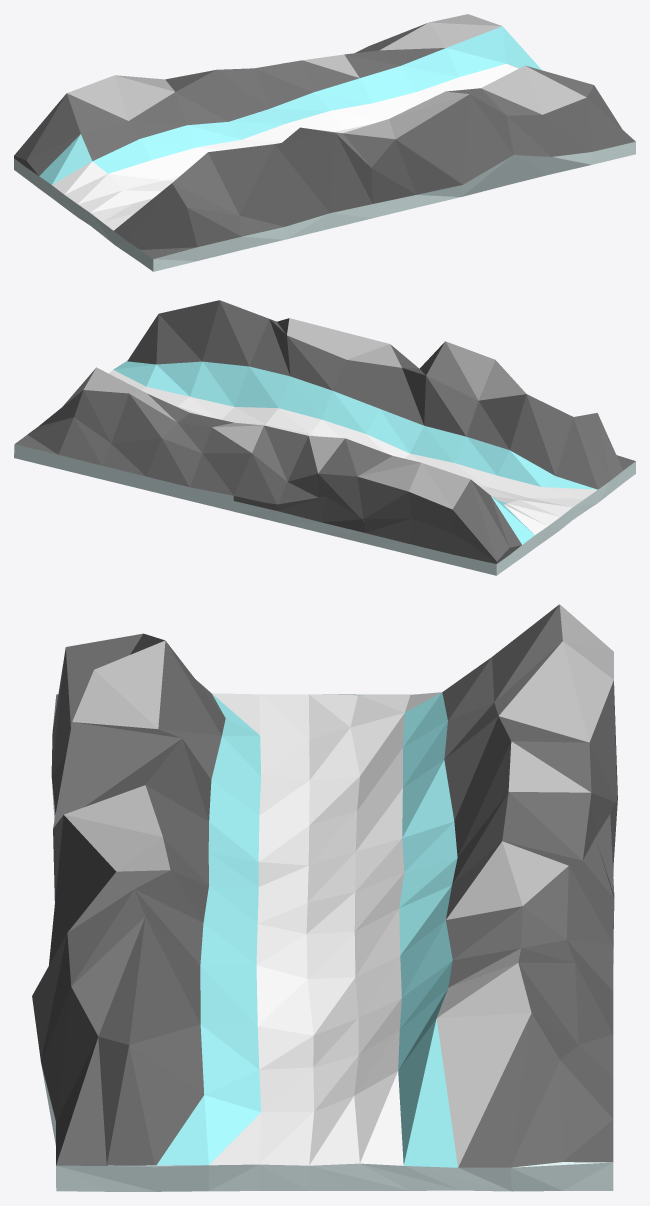
File: PlaneWinter.fbx
3 renders of one model, top to bottom at view 1: azimuth 30°, elevation 25°; view 2: azimuth 150°, elevation 25°; view 3: azimuth 270°, elevation 25°, orthographic. The views are drawn at different scales.
Parts seen in each view (by area): view 1: PlaneWinter; view 2: PlaneWinter; view 3: PlaneWinter.
Part boxes in pixels (box(x1,y1,x2,y2)): PlaneWinter: box(14, 14, 635, 271); PlaneWinter: box(14, 300, 635, 575); PlaneWinter: box(32, 604, 617, 1191).
Bounding box in the file's own units: 40253 × 7525 × 21032.
